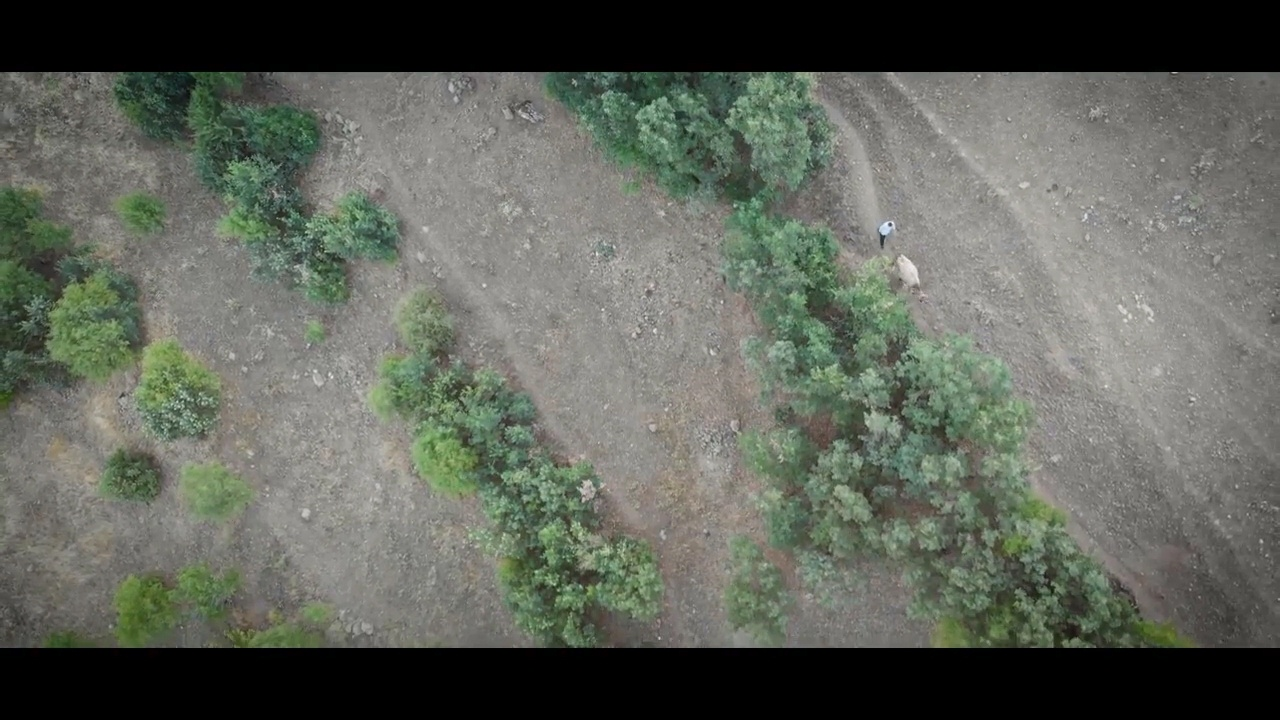insan: (877, 217, 898, 249)
